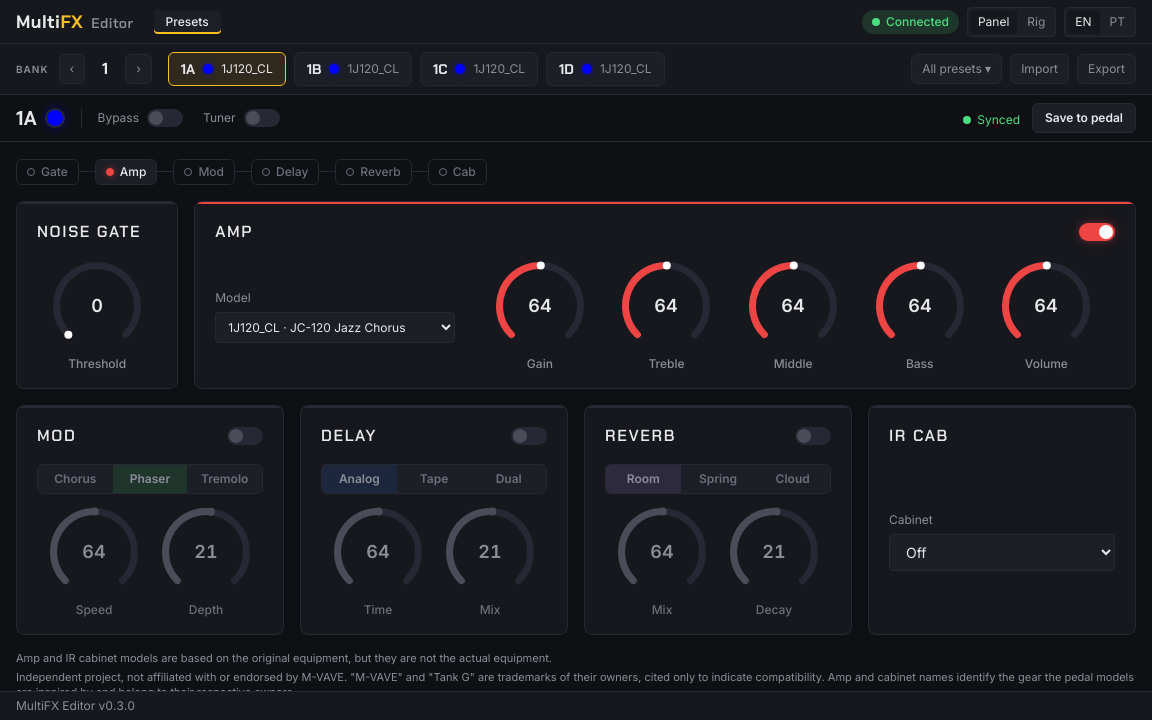
Scenario: App: modos Painel e Rig › o seletor do topo troca de modo na hora
Click the button "Rig" at x=1036, y=22, box top-left (1019, 10), bottom-right (1053, 34)
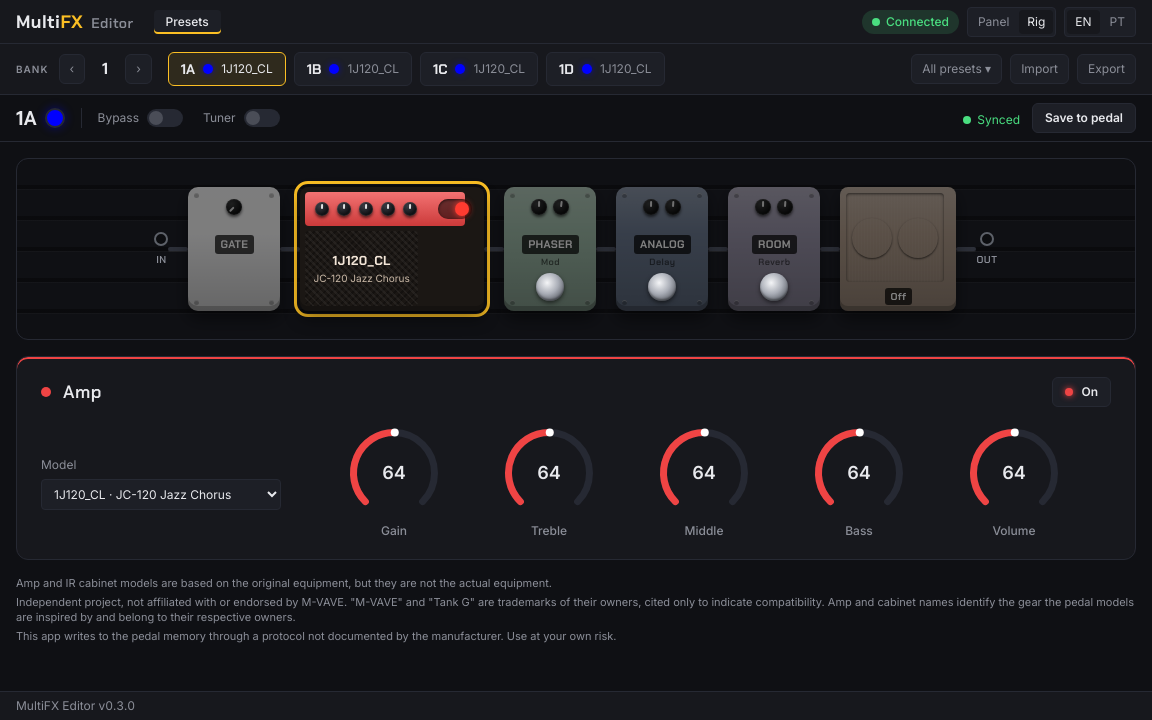
Check: the button with aria-label "Edit Amp" is shown, box top-left (300, 187), bottom-right (484, 311)
